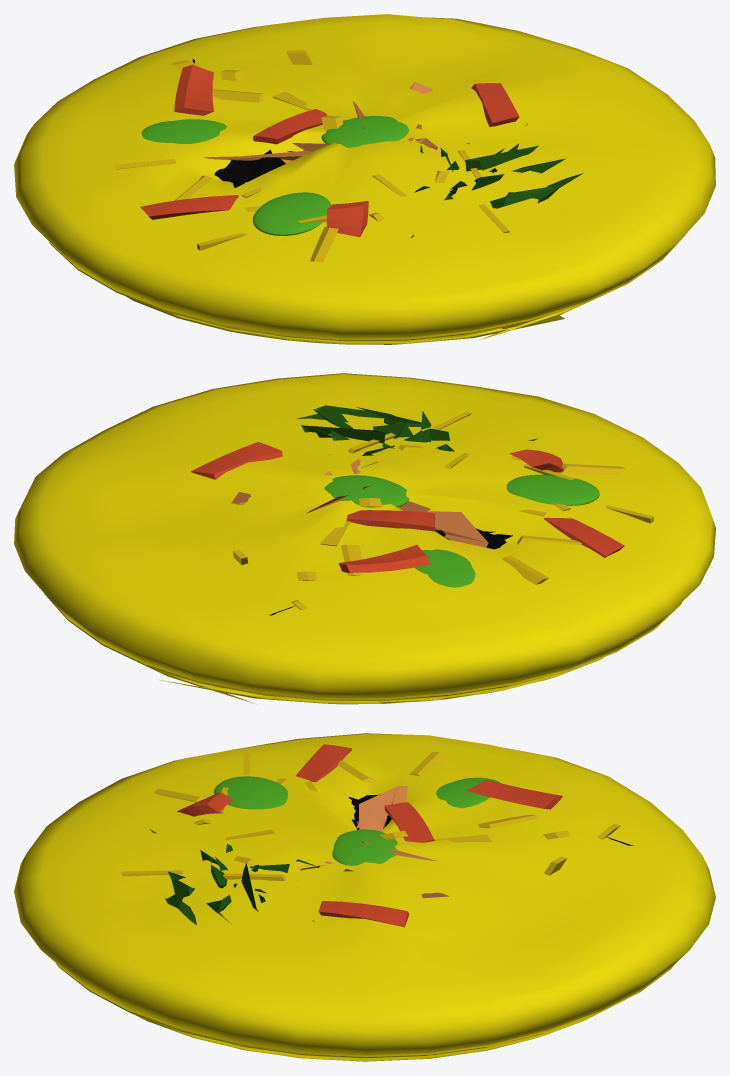
Rendered from omletteHalfCooked_ingredients.fbx.
3 views of the same model, one above another, from view 1: azimuth 30°, elevation 25°; view 2: azimuth 150°, elevation 25°; view 3: azimuth 270°, elevation 25° (orthographic).
Visible parts, largest first — view 1: eggs, spices2, spinnach.002, spinnach, baconbits.003, spinnach.001, baconbits.001, baconbits.004, baconbits, baconbits.002, saltnpepper, spices1 (+2 smaller); view 2: eggs, spices2, spinnach.002, spices1, spinnach, spinnach.001, baconbits, baconbits.003, baconbits.004, baconbits.001, baconbits.002, cheddar.007; view 3: eggs, spices2, spinnach, spinnach.002, spices1, baconbits.004, baconbits.003, baconbits, baconbits.001, spinnach.001, baconbits.002.
Boxes of the visible parts, x1=… form: eggs: x1=14, y1=14, x2=715, y2=344; spices2: x1=410, y1=123, x2=583, y2=237; spinnach.002: x1=253, y1=192, x2=331, y2=235; spinnach: x1=321, y1=116, x2=408, y2=147; baconbits.003: x1=174, y1=64, x2=213, y2=115; spinnach.001: x1=141, y1=119, x2=226, y2=143; baconbits.001: x1=140, y1=195, x2=238, y2=219; baconbits.004: x1=471, y1=83, x2=519, y2=126; baconbits: x1=253, y1=109, x2=327, y2=144; baconbits.002: x1=326, y1=201, x2=368, y2=237; saltnpepper: x1=192, y1=59, x2=293, y2=187; spices1: x1=204, y1=82, x2=437, y2=163; eggs: x1=14, y1=373, x2=715, y2=704; spices2: x1=296, y1=405, x2=537, y2=467; spinnach.002: x1=506, y1=474, x2=599, y2=505; spices1: x1=231, y1=459, x2=488, y2=547; spinnach: x1=324, y1=475, x2=409, y2=507; spinnach.001: x1=414, y1=549, x2=475, y2=587; baconbits: x1=346, y1=510, x2=435, y2=531; baconbits.003: x1=338, y1=544, x2=430, y2=572; baconbits.004: x1=191, y1=442, x2=282, y2=479; baconbits.001: x1=543, y1=517, x2=624, y2=557; baconbits.002: x1=509, y1=449, x2=563, y2=472; cheddar.007: x1=560, y1=463, x2=625, y2=474; eggs: x1=14, y1=733, x2=715, y2=1061; spices2: x1=150, y1=829, x2=314, y2=925; spinnach: x1=332, y1=829, x2=397, y2=865; spinnach.002: x1=214, y1=776, x2=287, y2=809; spices1: x1=299, y1=786, x2=448, y2=898; baconbits.004: x1=318, y1=901, x2=409, y2=927; baconbits.003: x1=465, y1=780, x2=562, y2=809; baconbits: x1=384, y1=802, x2=434, y2=842; baconbits.001: x1=295, y1=744, x2=351, y2=782; spinnach.001: x1=436, y1=777, x2=499, y2=808; baconbits.002: x1=177, y1=792, x2=232, y2=816.
Size of the model in its own units: 386 by 77.26 by 385.
